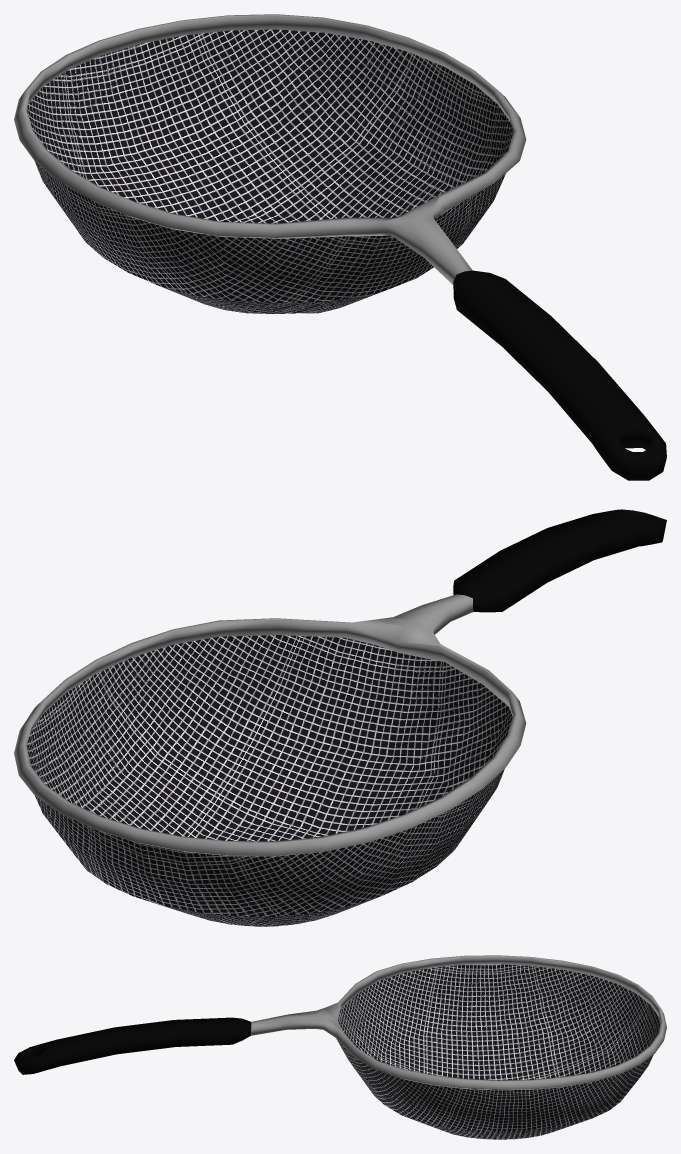
File: Strainer.fbx
3 renders of one model, top to bottom at view 1: azimuth 30°, elevation 25°; view 2: azimuth 150°, elevation 25°; view 3: azimuth 270°, elevation 25°, orthographic. The views are drawn at different scales.
Visible parts, largest first — view 1: SoupLadle.001, SoupLadle; view 2: SoupLadle.001, SoupLadle; view 3: SoupLadle.001, SoupLadle.
Boxes of the visible parts, bbox=[...] form: SoupLadle.001: bbox=[27, 29, 513, 313]; SoupLadle: bbox=[14, 14, 666, 480]; SoupLadle.001: bbox=[26, 635, 512, 926]; SoupLadle: bbox=[14, 509, 666, 856]; SoupLadle.001: bbox=[336, 964, 660, 1139]; SoupLadle: bbox=[14, 955, 666, 1090].
Bounding box in the file's own units: 0.1975 × 0.0736 × 0.4166.
